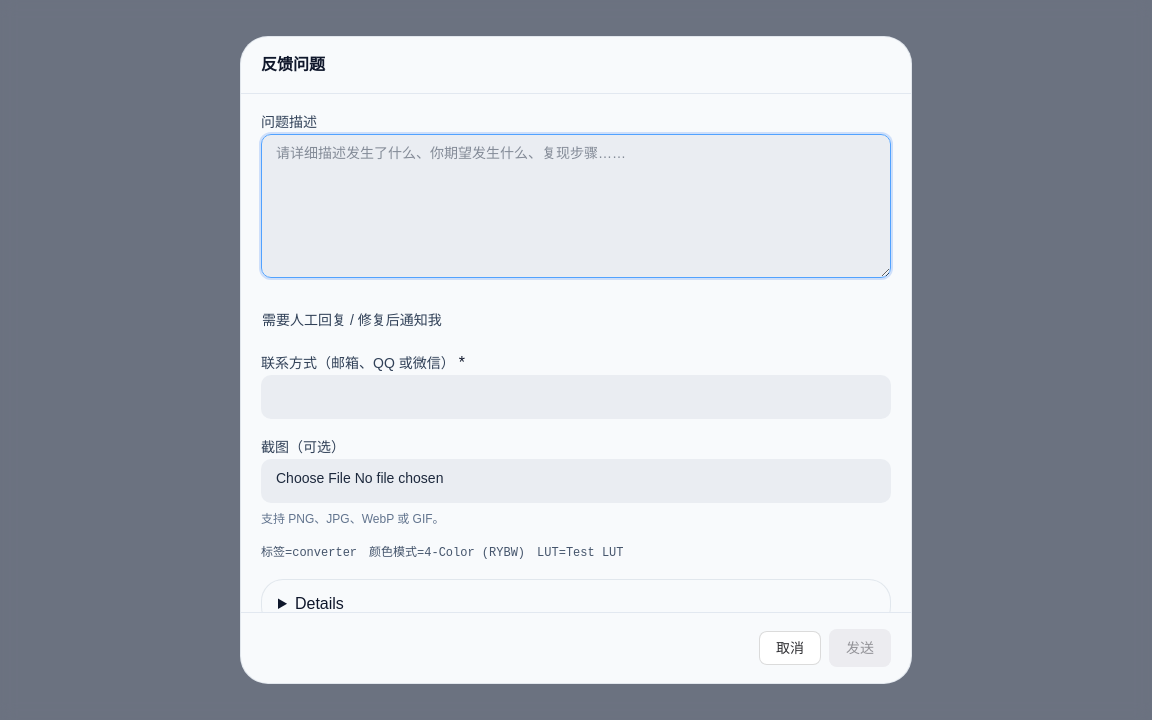
Scenario: BugReportModal › submits the active converter source and reports exact attachment success
Type "Preview failed before a session existed." into the text box labelled "问题描述" at [576, 206], box [261,134,891,278]
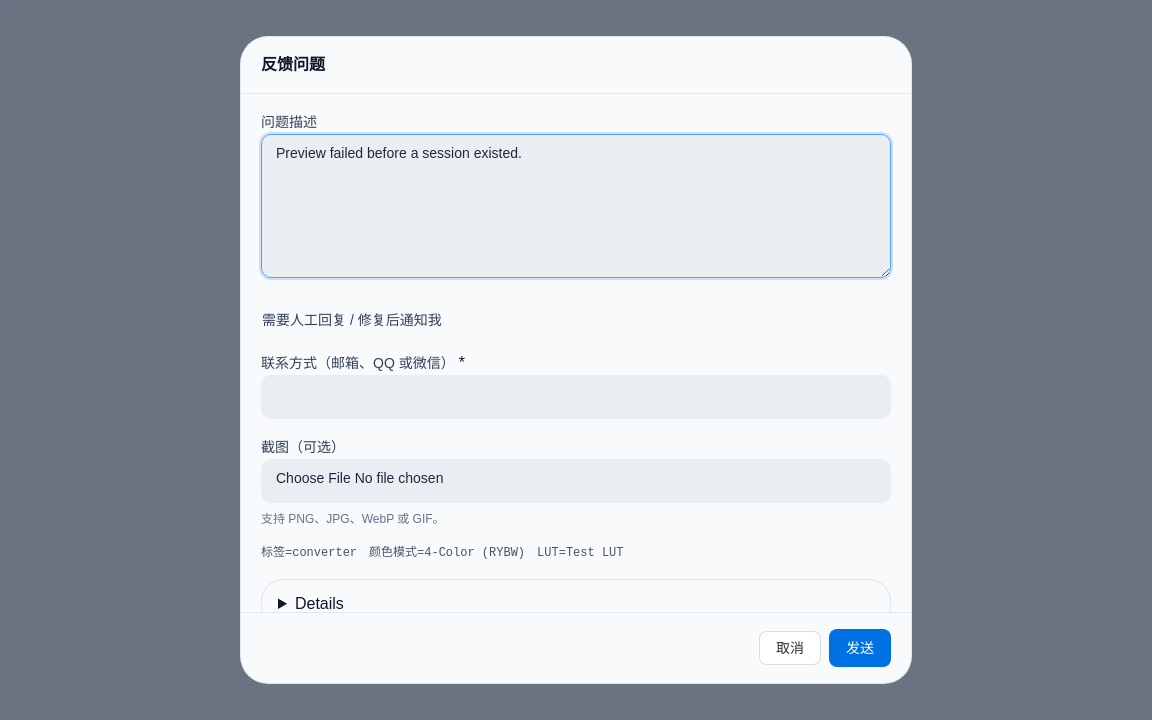
Click the switch labelled "需要人工回复 / 修复后通知我" at [352, 320], box [262,310,442,330]
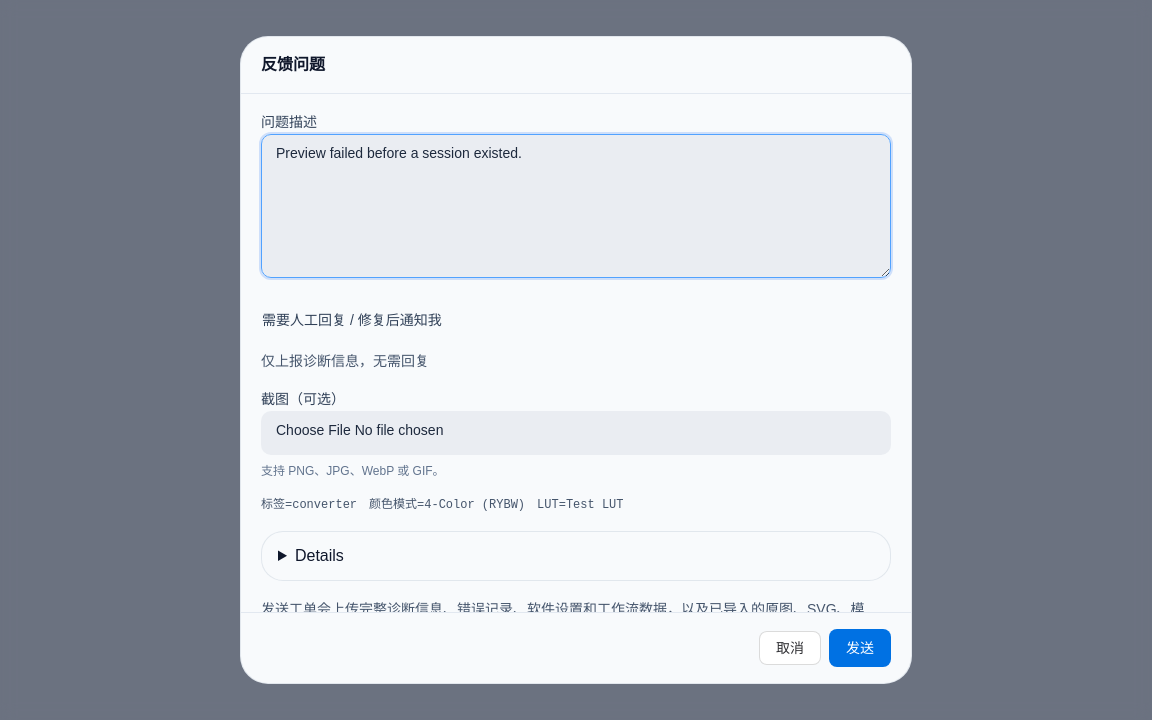
Click the button "发送" at [860, 648], box [829,629,891,667]
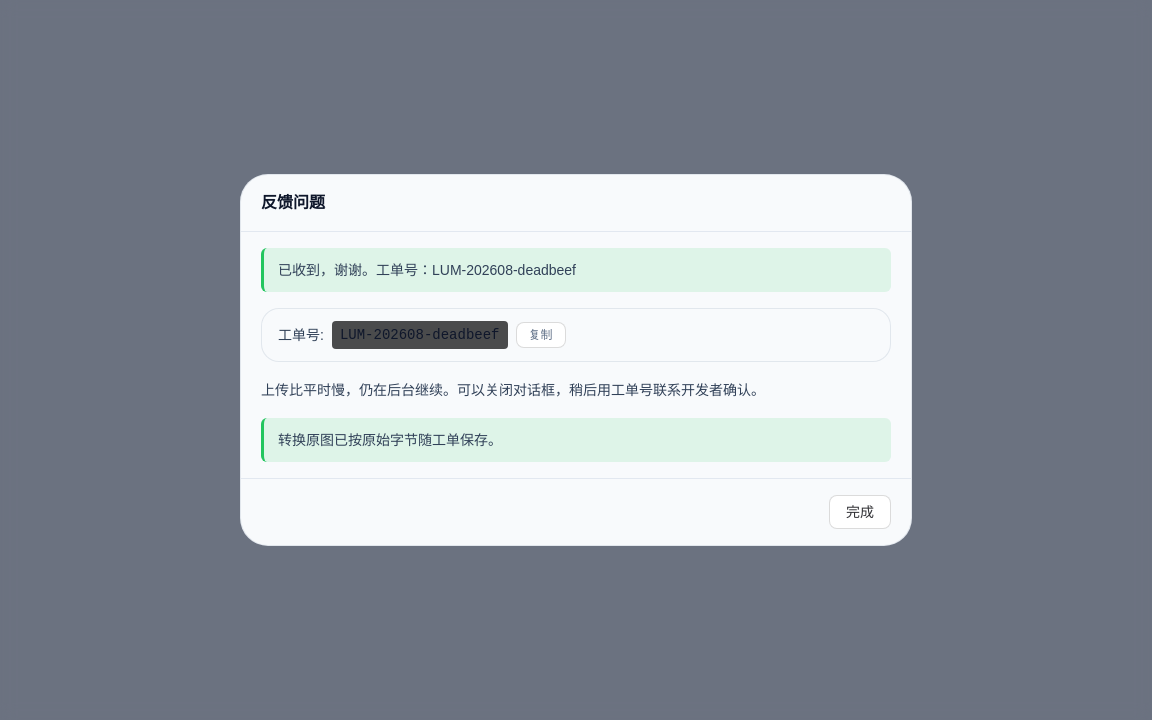
Now the text with test id "bug-report-original-image-status" shows "转换原图已按原始字节随工单保存", box [278,432,502,448]
